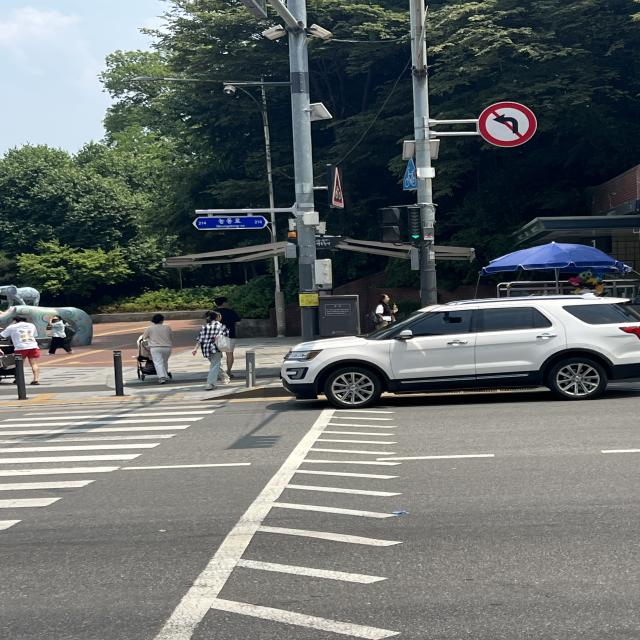green_light: (377, 206, 424, 243)
zebra: (0, 387, 418, 640)
